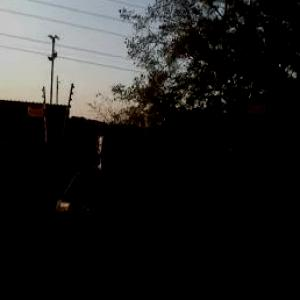follow: (47, 117, 146, 299)
